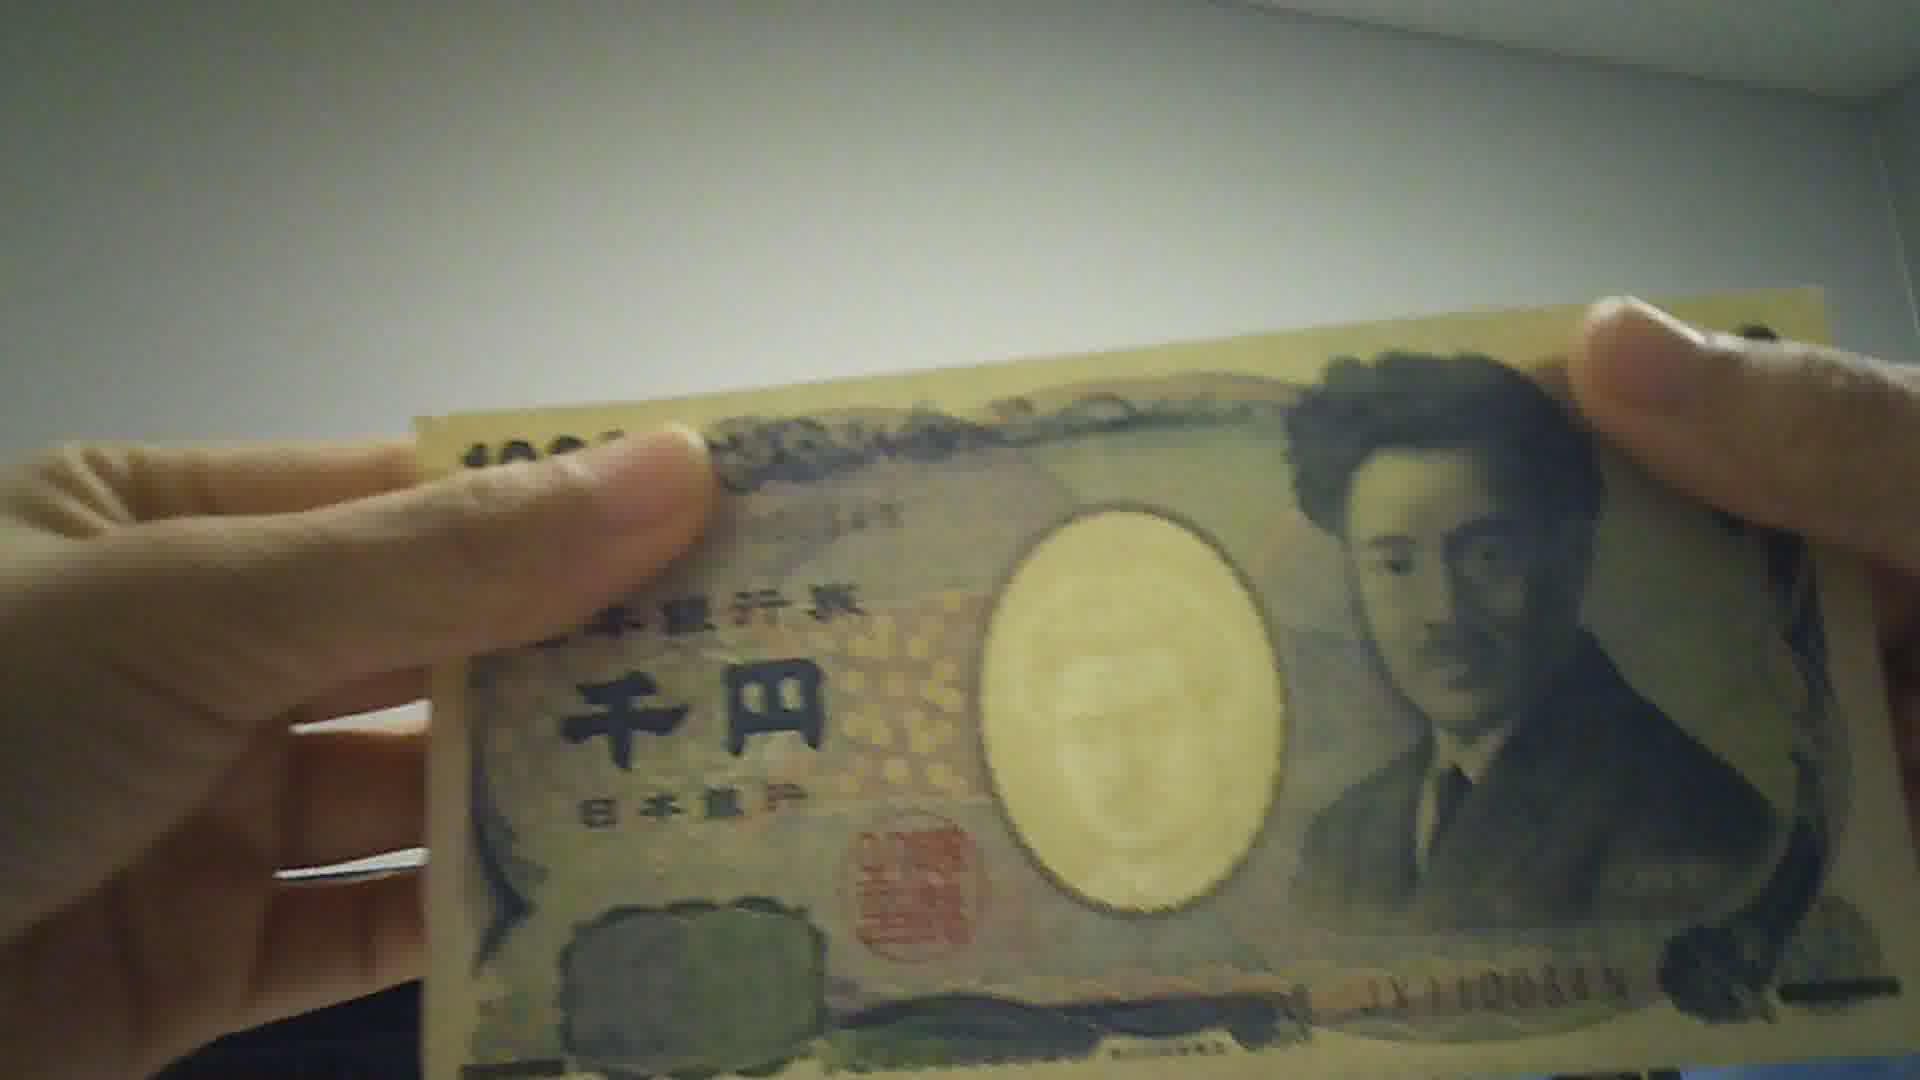1,000 Yen: (415, 314, 1912, 1062)
